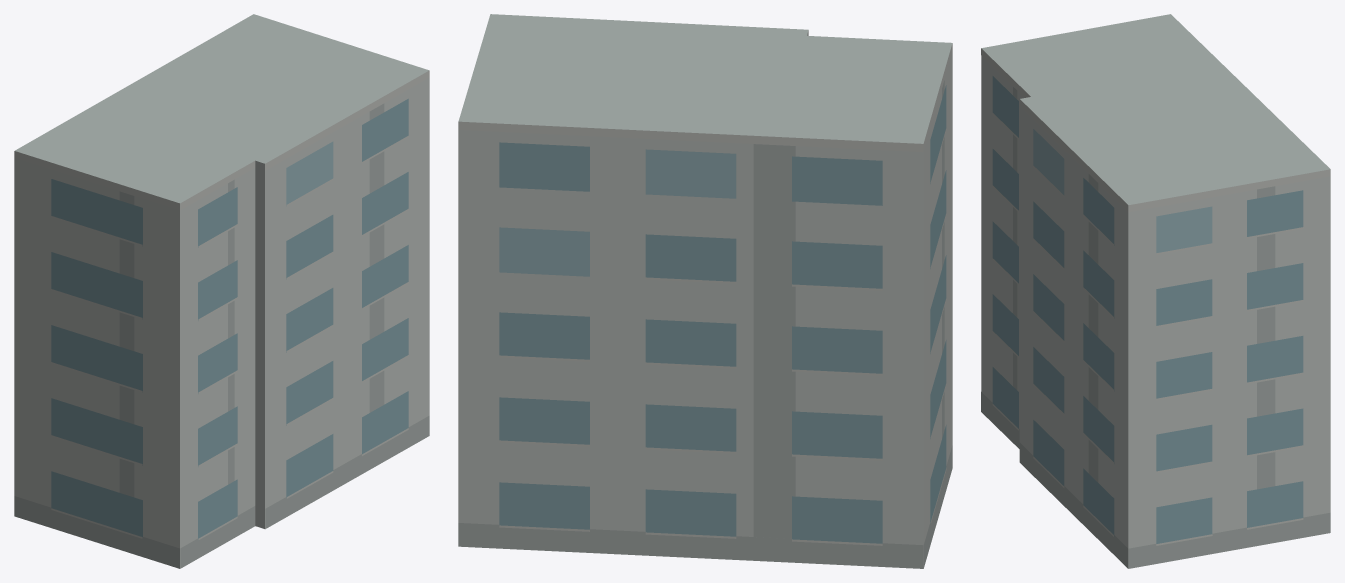
The model's file is survey-upis-32699374.glb.
3 renders of one model, left to right at view 1: azimuth 30°, elevation 25°; view 2: azimuth 150°, elevation 25°; view 3: azimuth 270°, elevation 25°, orthographic. The views are drawn at different scales.
Parts seen in each view (by area): view 1: survey-upis-32699374.tmp; view 2: survey-upis-32699374.tmp; view 3: survey-upis-32699374.tmp.
Part boxes in pixels (left/top/right/bottom): survey-upis-32699374.tmp: left=14, top=14, right=429, bottom=568; survey-upis-32699374.tmp: left=458, top=14, right=952, bottom=568; survey-upis-32699374.tmp: left=981, top=14, right=1330, bottom=568.
Bounding box in the file's own units: 14.07 × 12.47 × 10.87.
